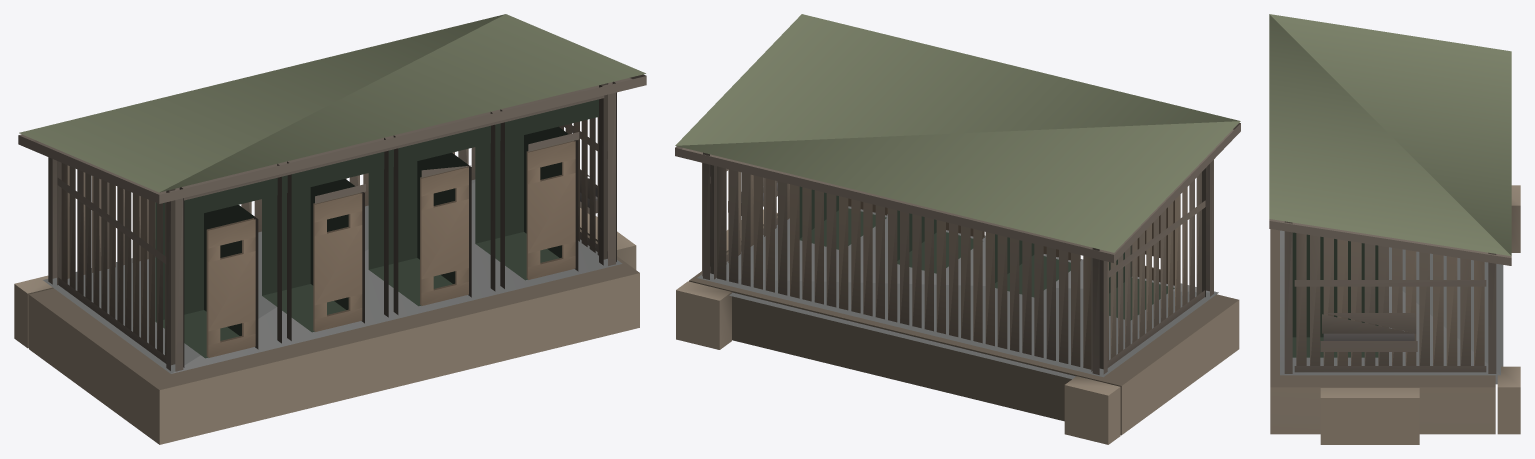
File: washhouse.lod.glb
3 views of the same model, side by side, from view 1: azimuth 30°, elevation 25°; view 2: azimuth 150°, elevation 25°; view 3: azimuth 270°, elevation 25° (orthographic). The views are drawn at different scales.
Visible parts, largest first — view 1: washhouse; view 2: washhouse; view 3: washhouse.
Boxes of the visible parts, bbox=[...] form: washhouse: bbox=[14, 14, 646, 444]; washhouse: bbox=[675, 14, 1240, 444]; washhouse: bbox=[1269, 14, 1520, 444].
Size of the model in its own units: 9.98 by 4.76 by 4.98.
